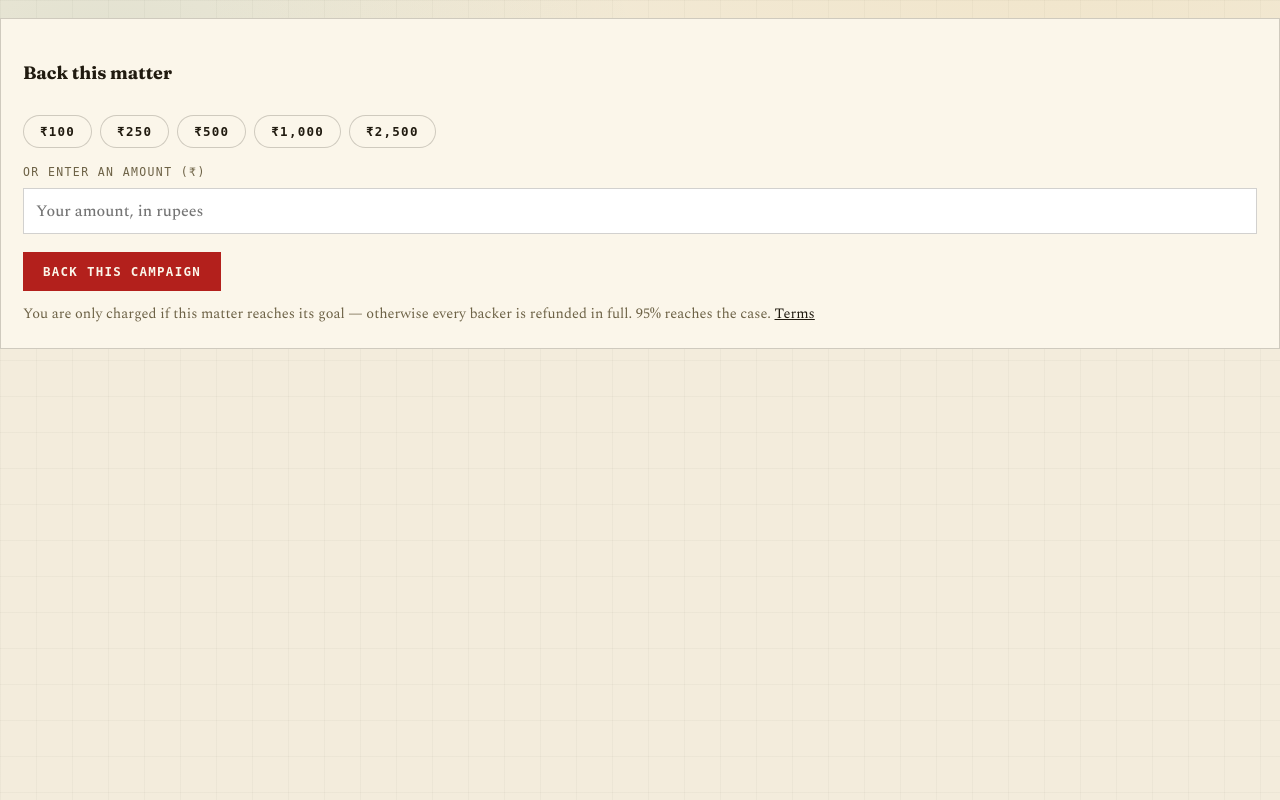
it: BackForm › shows an error message when the request fails
Type "50" into the number field labelled "Or enter an amount (₹)" at coordinates (640, 211), box top-left (23, 188), bottom-right (1257, 234)
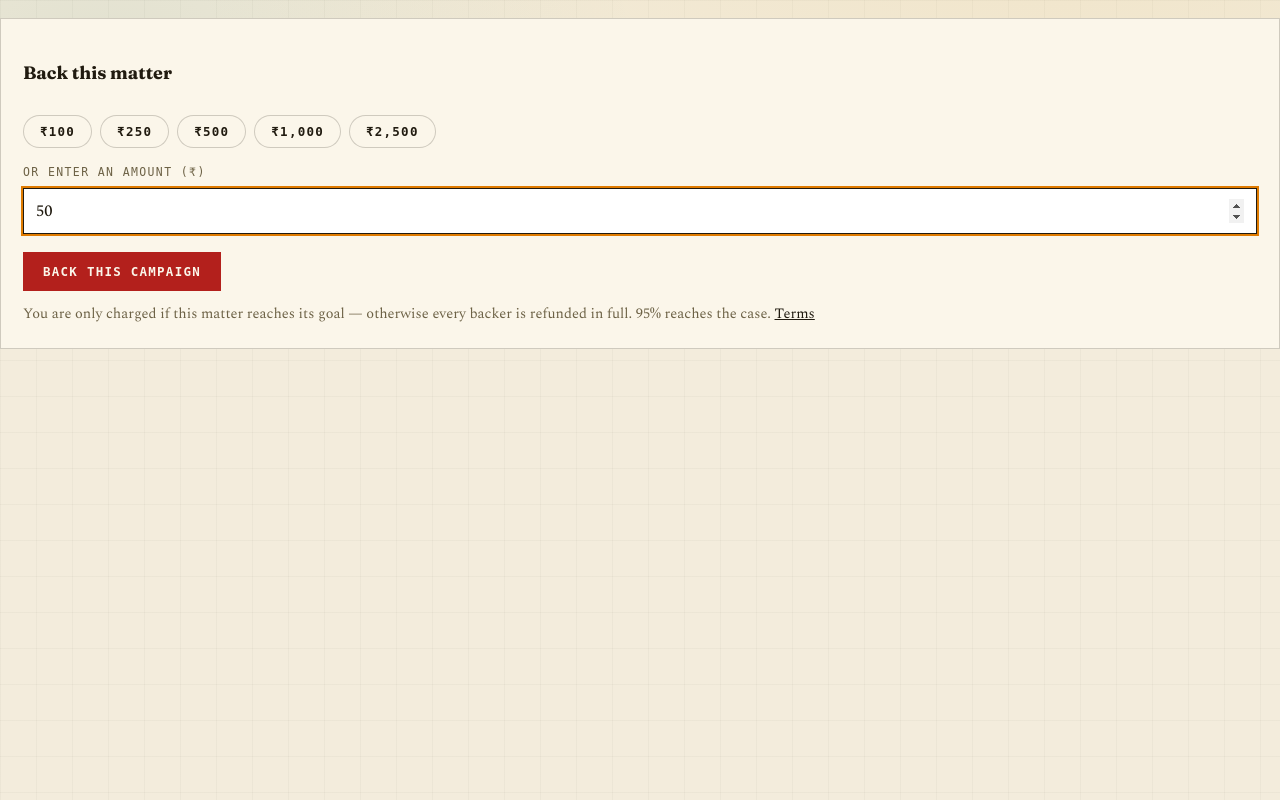
Click the button "Back this campaign" at coordinates (122, 271), box top-left (23, 252), bottom-right (221, 291)
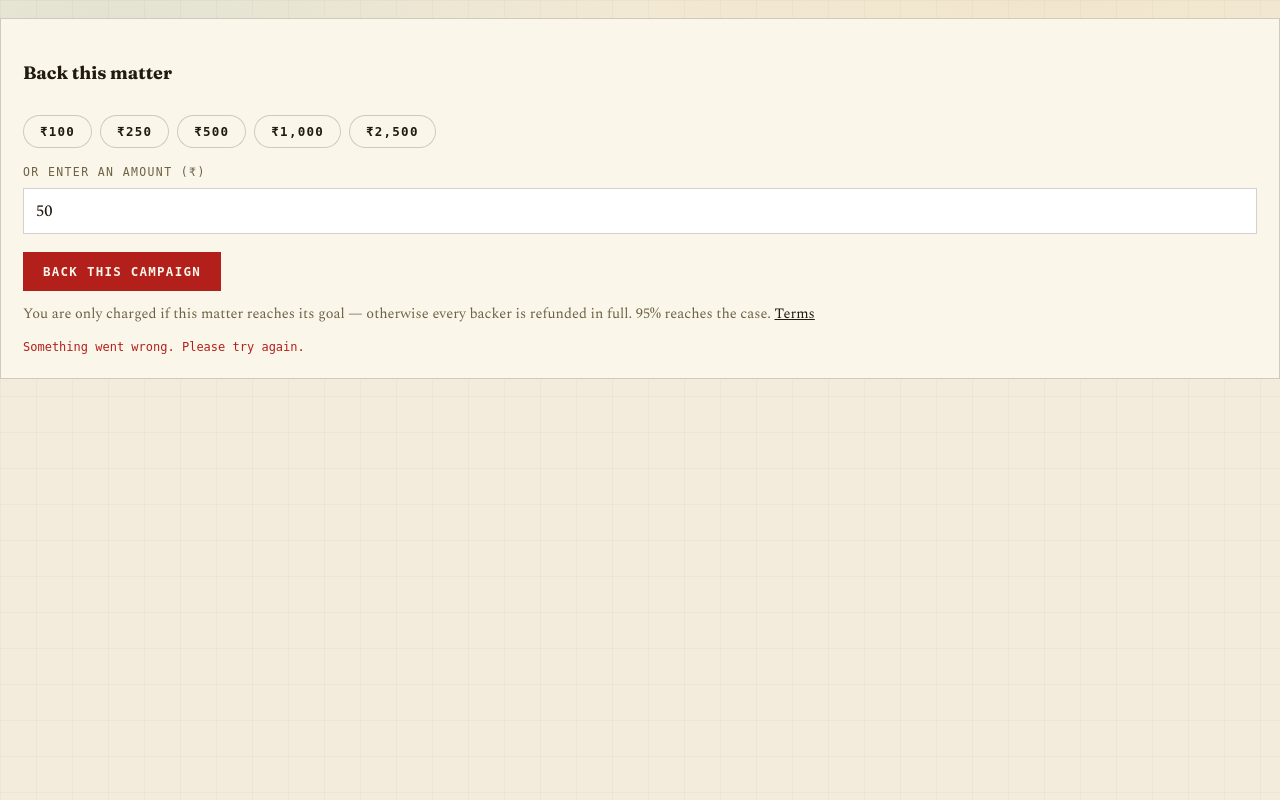
Check: the message shows "Something went wrong", box top-left (23, 340), bottom-right (305, 354)
